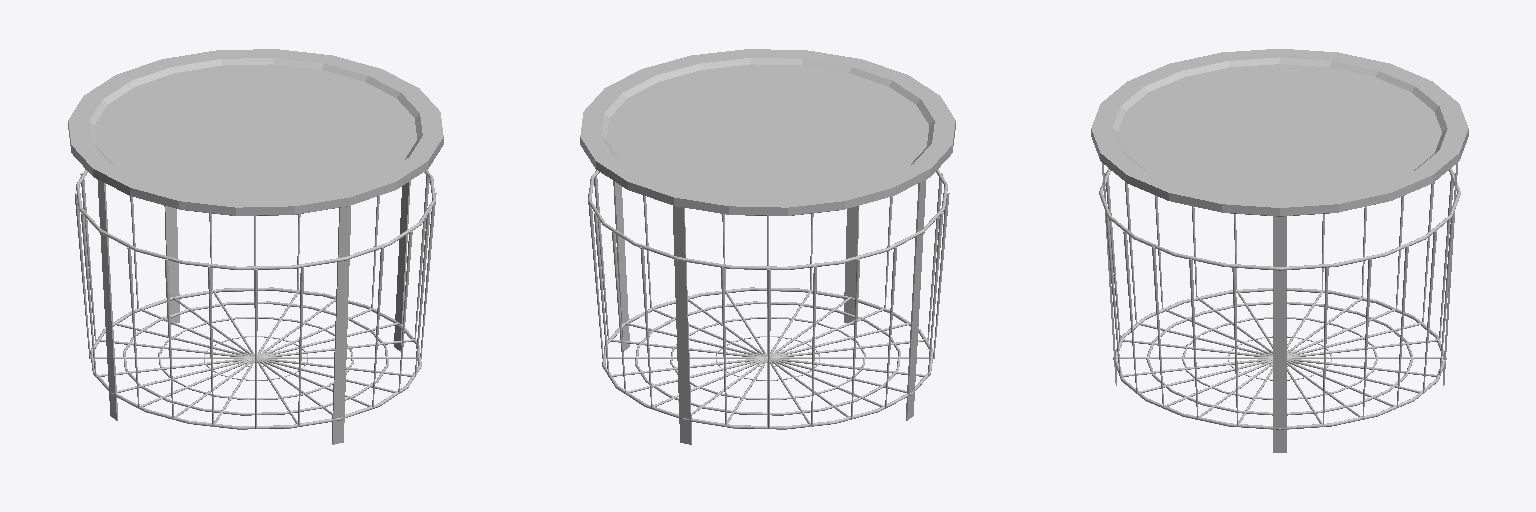
File: CoffeeTable_Mesh.obj
3 renders of one model, left to right at view 1: azimuth 30°, elevation 25°; view 2: azimuth 150°, elevation 25°; view 3: azimuth 270°, elevation 25°, orthographic.
Parts seen in each view (by area): view 1: pTorus8; view 2: pTorus8; view 3: pTorus8.
Part boxes in pixels (bbox=[...]): pTorus8: bbox=[68, 49, 443, 444]; pTorus8: bbox=[580, 49, 955, 444]; pTorus8: bbox=[1091, 49, 1468, 452].
Bounding box in the file's own units: 2 × 1.49 × 2.